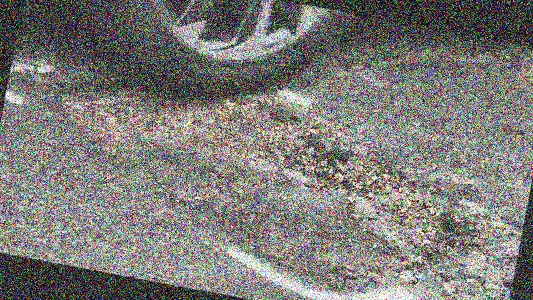pothole: (34, 53, 474, 279)
